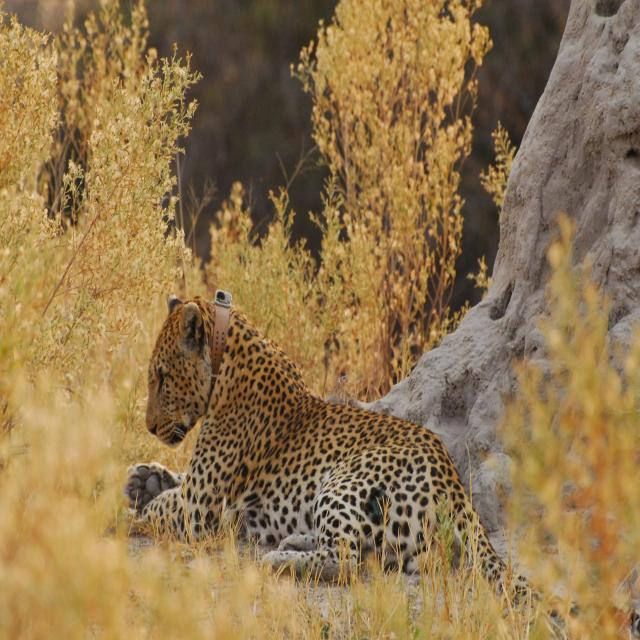Leopard: (125, 266, 640, 632)
